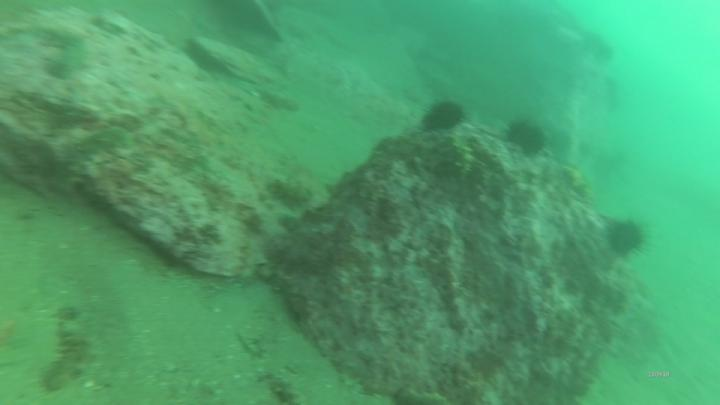echinus: (606, 211, 656, 262), (416, 97, 469, 133), (508, 117, 549, 155)
holothurian: (57, 124, 137, 190), (45, 322, 89, 396), (448, 133, 478, 177)
